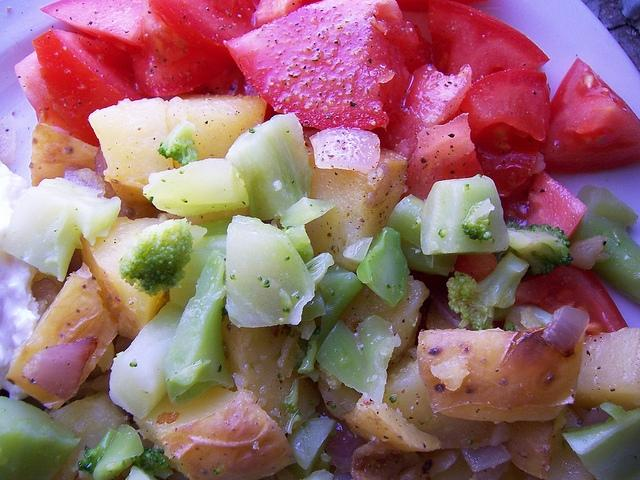broccoli: (0, 176, 122, 280), (163, 250, 235, 406), (223, 214, 315, 328), (226, 113, 314, 220), (572, 184, 640, 308), (316, 314, 402, 404), (446, 252, 530, 330), (0, 396, 80, 477), (143, 158, 249, 218), (561, 402, 640, 480), (386, 195, 458, 277), (120, 220, 194, 298), (494, 219, 574, 277), (357, 226, 408, 307), (318, 266, 363, 350), (93, 424, 143, 480), (157, 120, 199, 166), (461, 198, 496, 240), (132, 447, 174, 479), (298, 325, 321, 374), (286, 225, 314, 264)
potato: (414, 323, 586, 424), (5, 262, 119, 410), (133, 386, 296, 480), (305, 146, 408, 273), (383, 356, 516, 449), (220, 314, 320, 434), (80, 216, 170, 340), (89, 98, 174, 207), (339, 276, 430, 366), (142, 158, 248, 218), (339, 392, 442, 452), (571, 327, 640, 412), (28, 122, 98, 187)
tomato: (223, 0, 419, 131), (38, 0, 238, 97), (32, 30, 159, 148), (456, 253, 628, 336), (444, 69, 551, 198), (539, 57, 639, 175), (428, 0, 549, 82), (364, 64, 473, 150), (401, 112, 485, 202), (148, 1, 263, 61), (500, 170, 588, 242), (14, 50, 72, 133), (250, 0, 322, 27), (397, 0, 433, 46)
